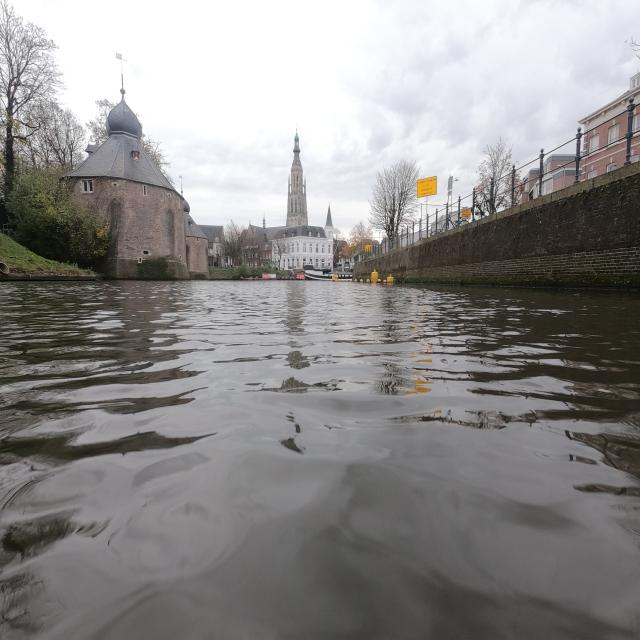grass: (0, 233, 97, 276)
sky: (11, 0, 640, 235)
tree: (6, 167, 117, 268)
wall: (354, 162, 640, 287), (63, 83, 208, 279)
water: (0, 280, 640, 638)
